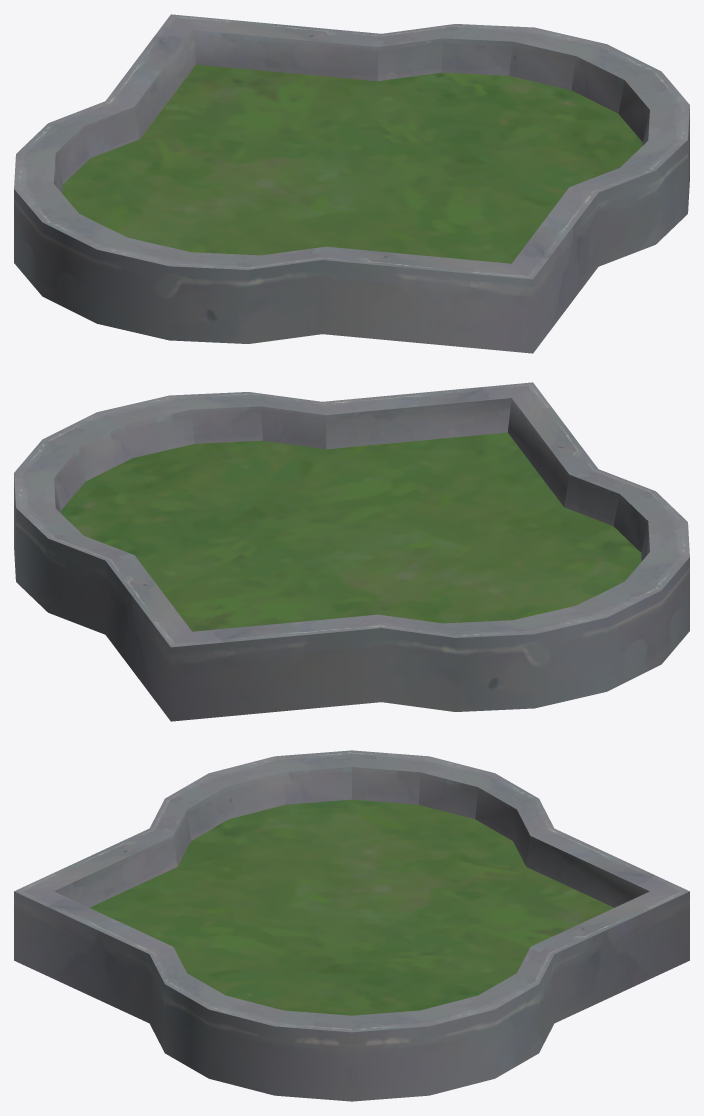
Rendered from Homeworld_Exterior_Common_Flower_Decoration_Green_01_D_Lod0.fbx.
3 renders of one model, top to bottom at view 1: azimuth 30°, elevation 25°; view 2: azimuth 150°, elevation 25°; view 3: azimuth 270°, elevation 25°, orthographic. The views are drawn at different scales.
Parts seen in each view (by area): view 1: Homeworld_Exterior_Common_Flower_Decoration_Green_01_D_Lod0; view 2: Homeworld_Exterior_Common_Flower_Decoration_Green_01_D_Lod0; view 3: Homeworld_Exterior_Common_Flower_Decoration_Green_01_D_Lod0.
Part boxes in pixels (box(x1,y1,x2,y2)): Homeworld_Exterior_Common_Flower_Decoration_Green_01_D_Lod0: box(14, 14, 689, 353); Homeworld_Exterior_Common_Flower_Decoration_Green_01_D_Lod0: box(14, 382, 689, 721); Homeworld_Exterior_Common_Flower_Decoration_Green_01_D_Lod0: box(14, 750, 689, 1101).
Size of the model in its own units: 1.13 by 0.1293 by 1.14.
